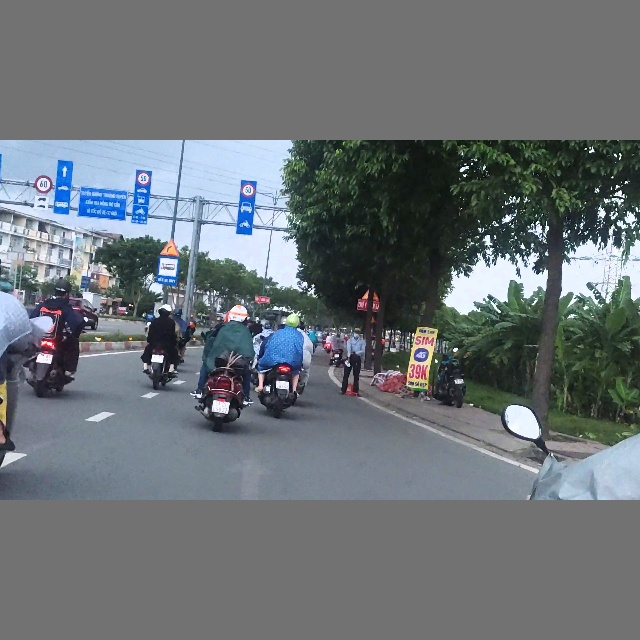I.434a: (156, 255, 179, 284)
P.127*50: (241, 183, 255, 197), (137, 171, 150, 186)
P.127*60: (34, 175, 52, 193)
S.505a*Xe tai va cong: (34, 195, 49, 210)
W.201b: (160, 238, 179, 257)
